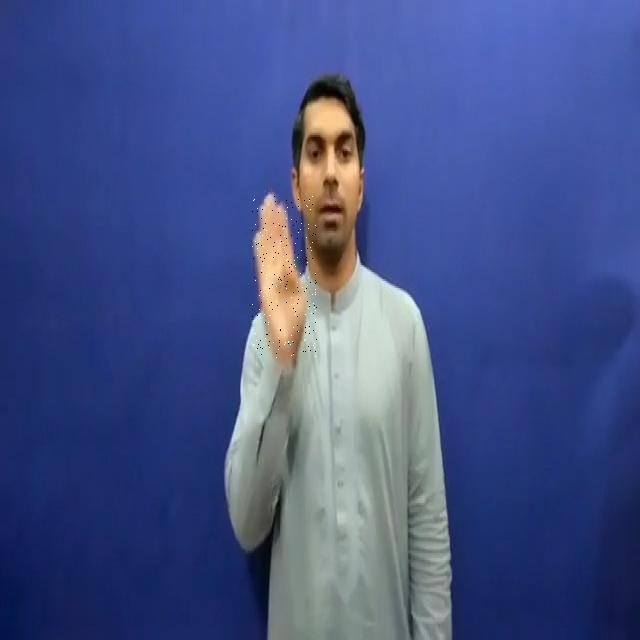napkin: (252, 196, 317, 358)
